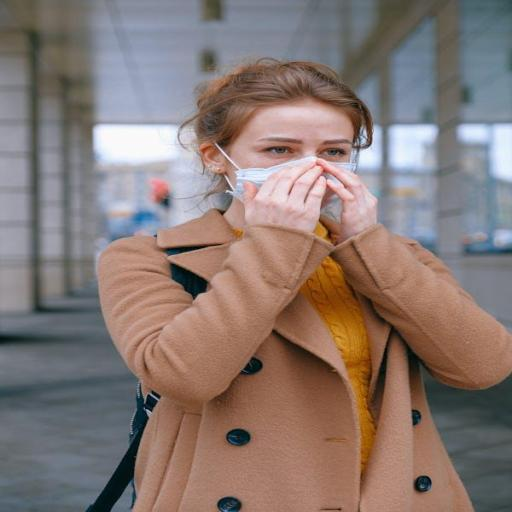mask: (178, 68, 381, 232)
